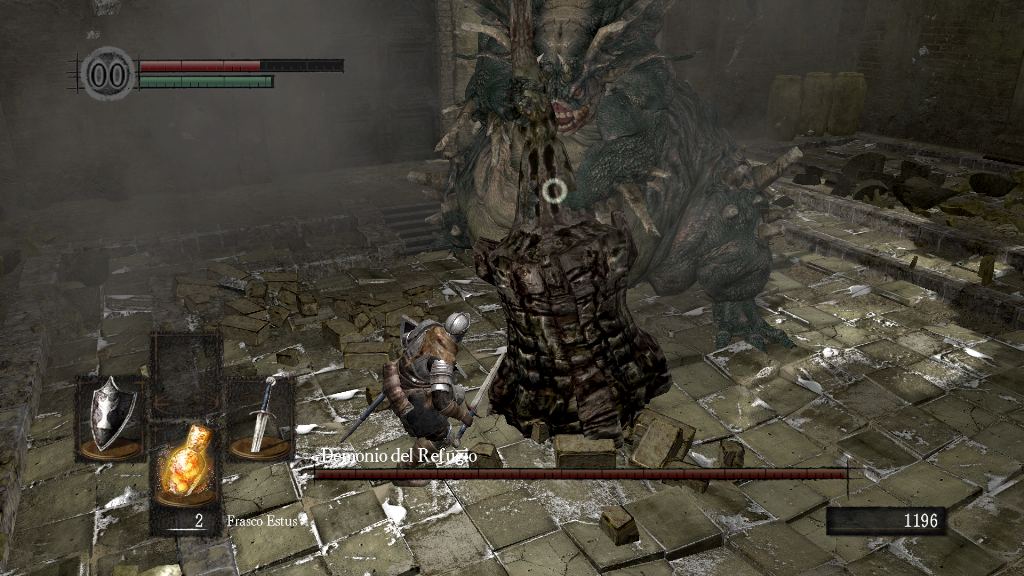asylumDemon: (407, 5, 810, 437)
bossHP: (314, 469, 847, 479)
health: (138, 58, 343, 71)
humanity: (80, 45, 136, 102)
player: (382, 311, 508, 489)
souls: (825, 506, 945, 536)
stamina: (138, 74, 274, 88)
